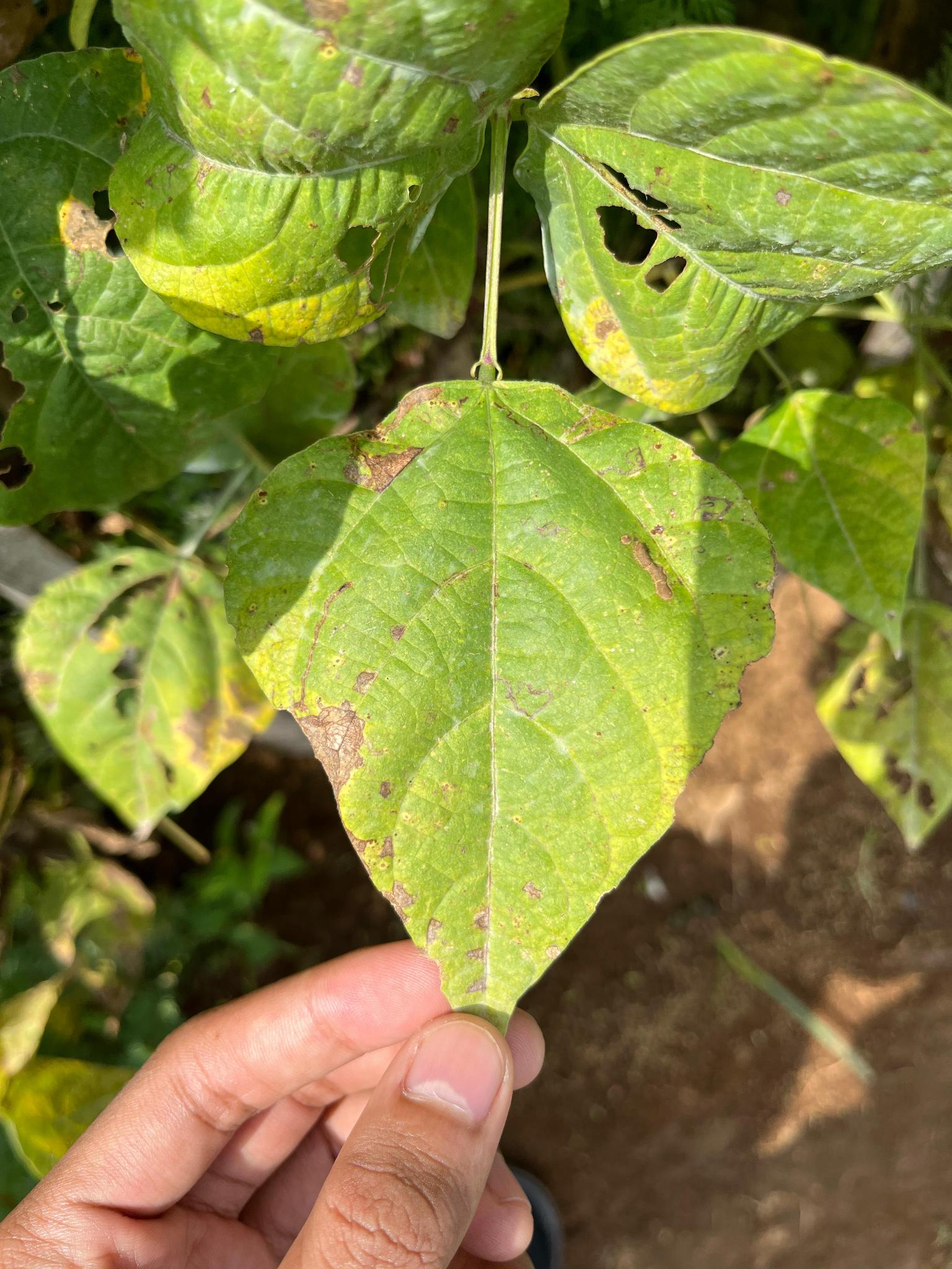hawar: (330, 381, 497, 570), (264, 659, 441, 786)
mozaik: (560, 129, 760, 371)
